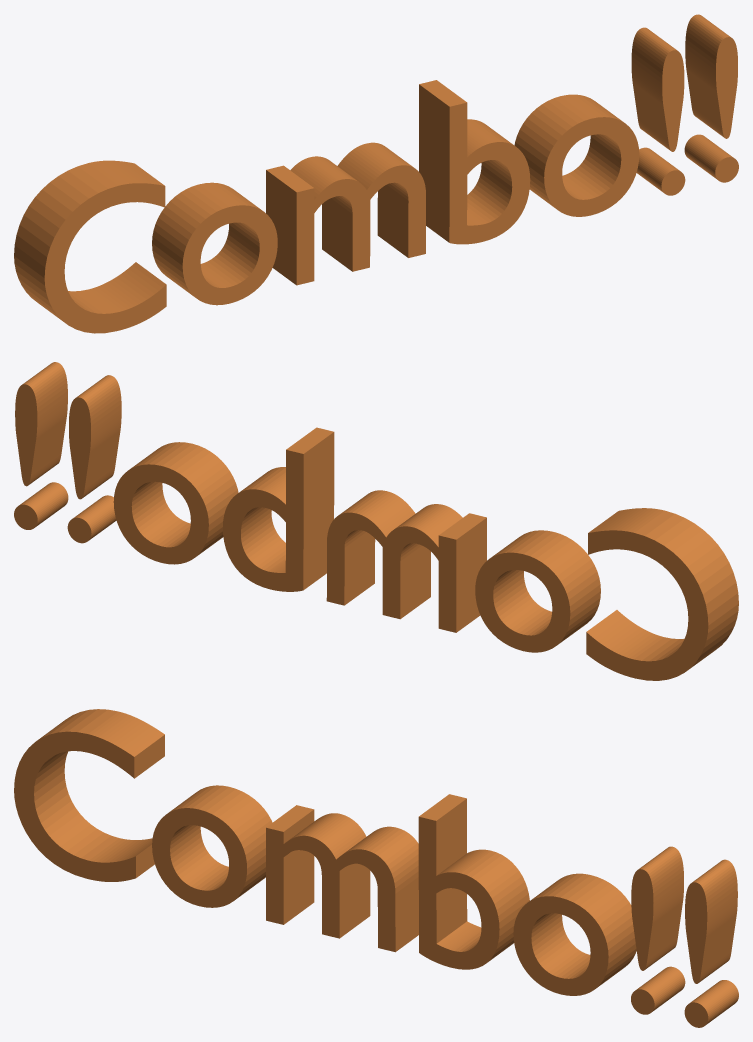
Rendered from combo.dae.
3 renders of one model, top to bottom at view 1: azimuth 30°, elevation 25°; view 2: azimuth 150°, elevation 25°; view 3: azimuth 330°, elevation 25°, orthographic.
Parts seen in each view (by area): view 1: combo; view 2: combo; view 3: combo.
Part boxes in pixels (x1,y1,x2,y2): combo: [14, 14, 738, 333]; combo: [14, 362, 738, 680]; combo: [14, 709, 738, 1027].
Bounding box in the file's own units: 3.5 × 0.2695 × 0.7007.
